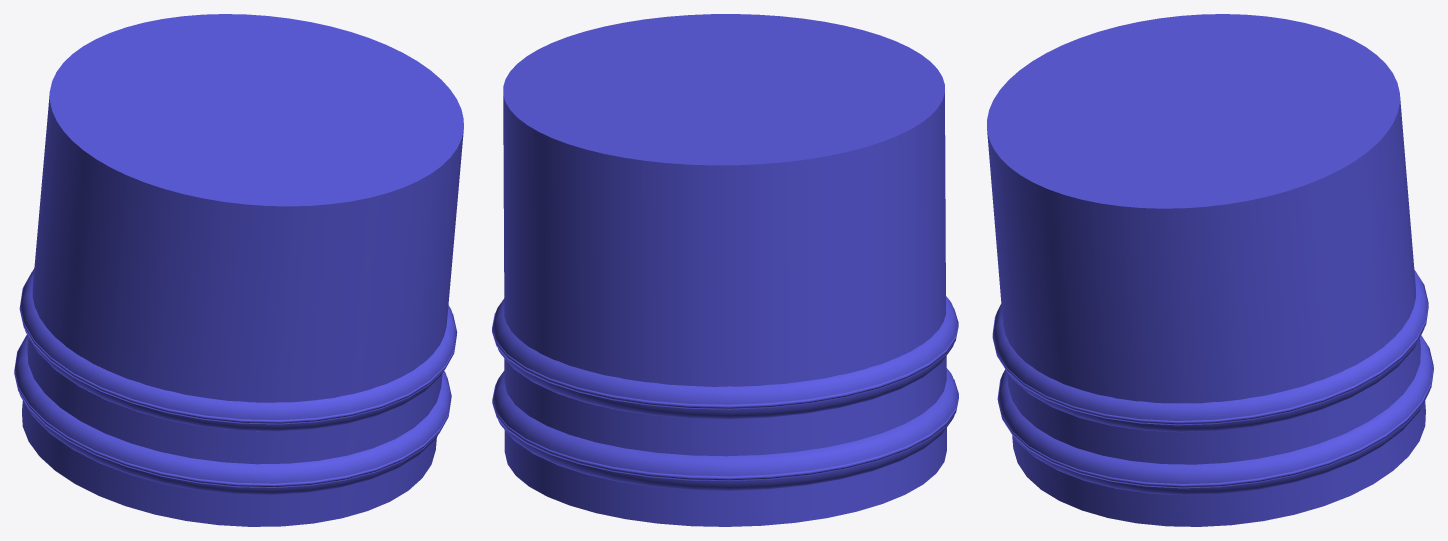
Rendered from bombilla187.obj.
3 views of the same model, side by side, from view 1: azimuth 30°, elevation 25°; view 2: azimuth 150°, elevation 25°; view 3: azimuth 270°, elevation 25° (orthographic). The views are drawn at different scales.
Visible parts, largest first — view 1: Cylinder001, Cylinder004, Cylinder002, Cylinder003, Cylinder006; view 2: Cylinder001, Cylinder004, Cylinder003, Cylinder006, Cylinder002; view 3: Cylinder001, Cylinder004, Cylinder002, Cylinder003, Cylinder006.
Part boxes in pixels (<box>): Cylinder001: <box>32,14,463,402</box>; Cylinder004: <box>14,335,451,494</box>; Cylinder002: <box>19,268,457,431</box>; Cylinder003: <box>27,337,442,464</box>; Cylinder006: <box>22,401,436,526</box>; Cylinder001: <box>503,14,945,386</box>; Cylinder004: <box>492,368,958,490</box>; Cylinder003: <box>504,356,946,456</box>; Cylinder006: <box>504,428,946,526</box>; Cylinder002: <box>492,296,958,419</box>; Cylinder001: <box>987,14,1415,403</box>; Cylinder004: <box>997,335,1433,495</box>; Cylinder002: <box>992,270,1428,432</box>; Cylinder003: <box>1007,338,1420,464</box>; Cylinder006: <box>1012,401,1425,526</box>.
Size of the model in its own units: 72.73 by 65.27 by 73.83.
